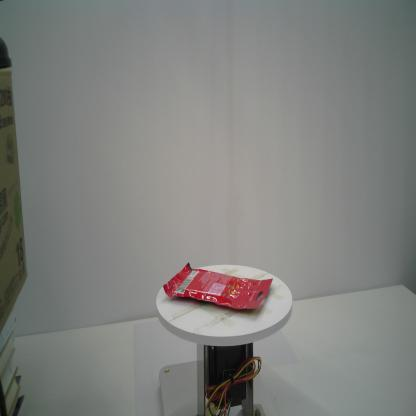Candy: (162, 262, 274, 312)
